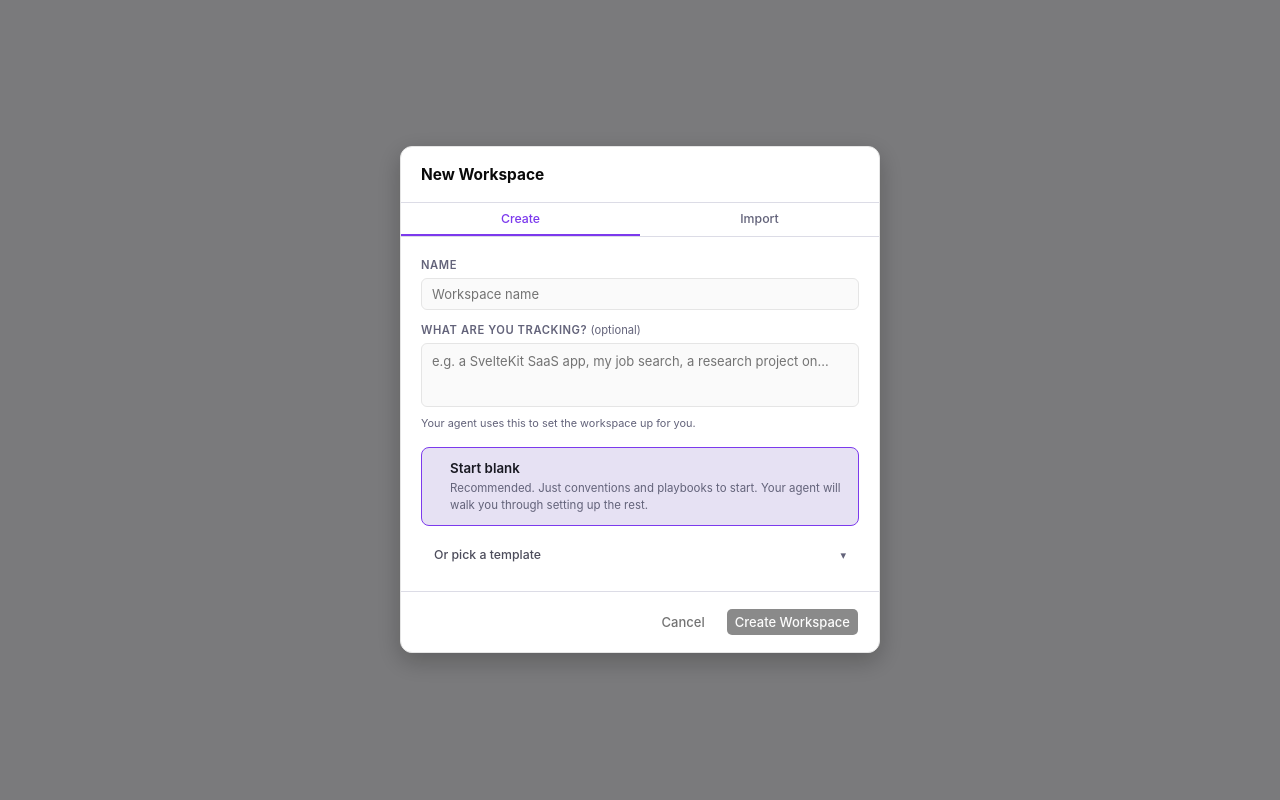
the modal resets on the OPEN TRANSITION, not on every effect run › keeps the Import tab selected when the templates response lands
Step 1. Click the button "Import" → click(760, 220), box [640,203,879,236]
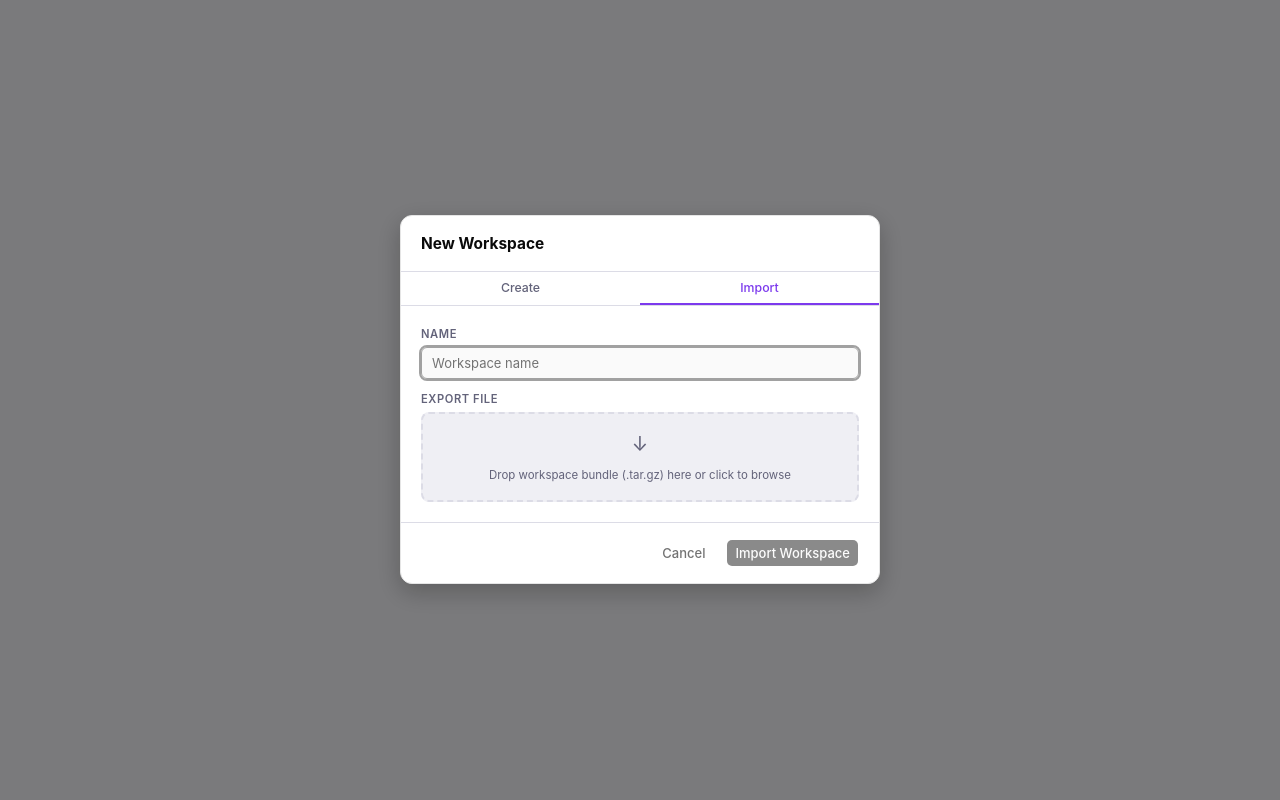
Result: the button "↓ Drop workspace bundle (.tar.gz) here or click to browse" is shown at [421,412,859,503]
